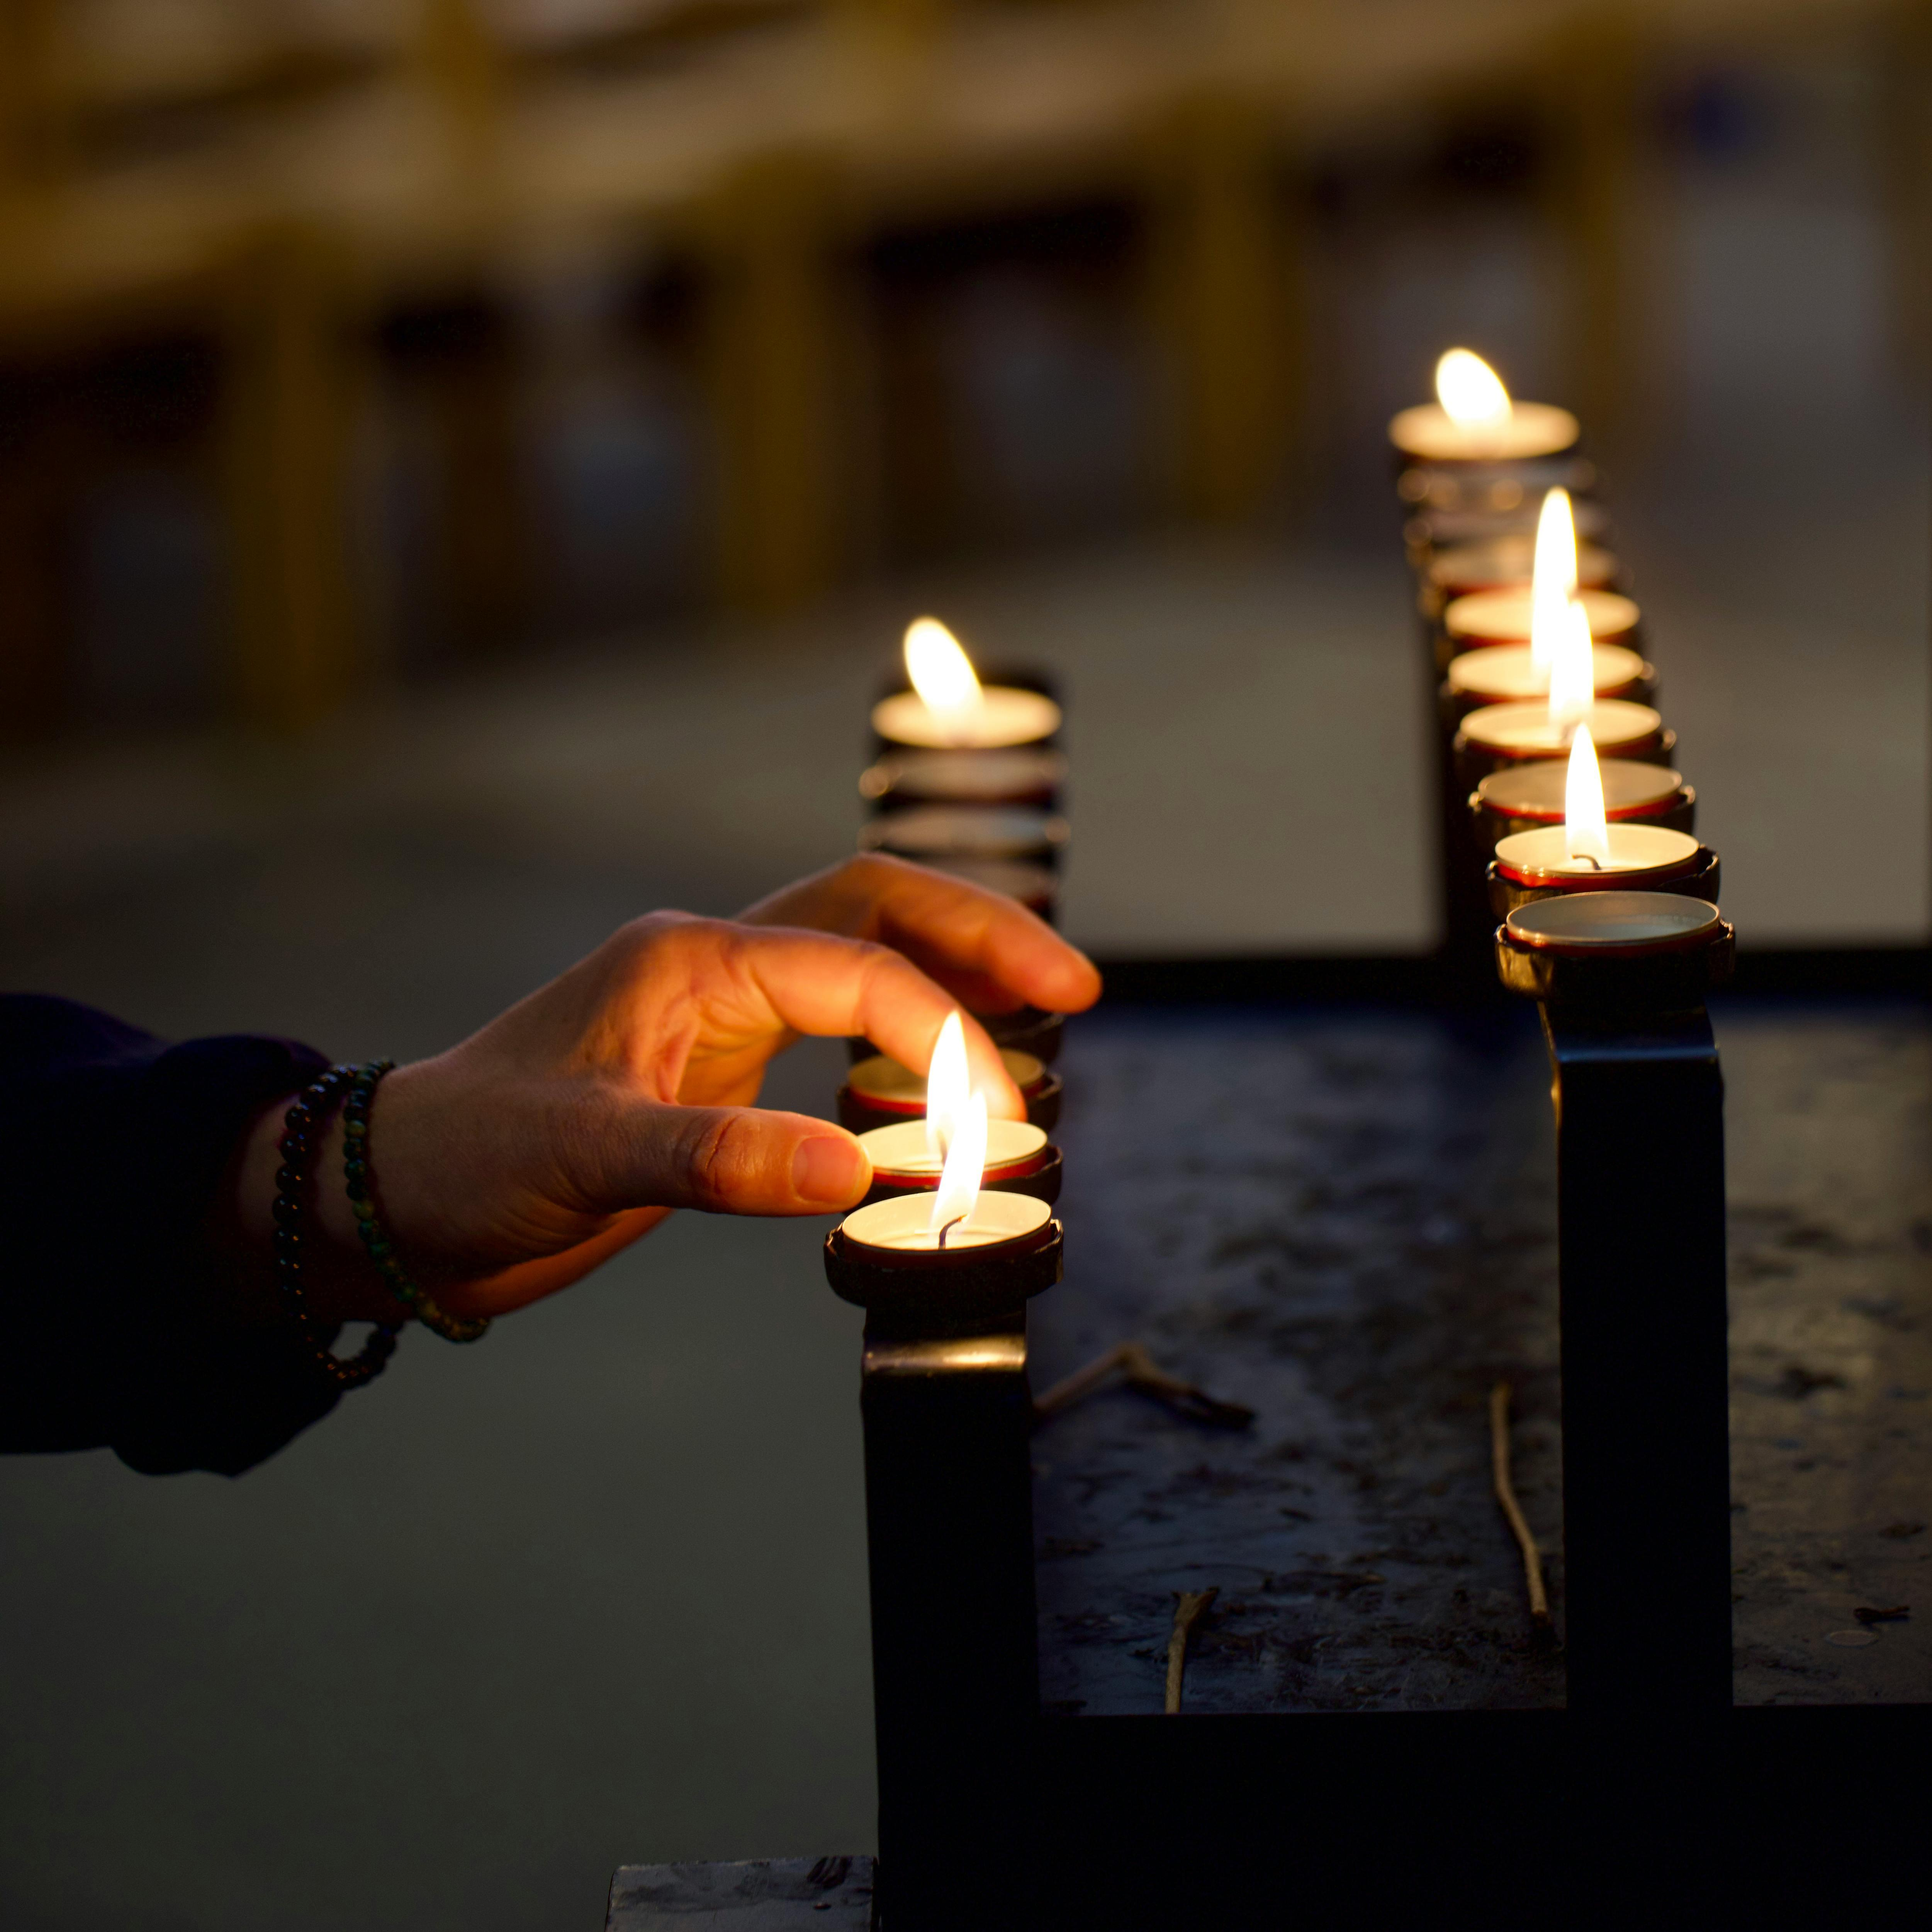Fire: (1490, 464, 1679, 893), (874, 1005, 1037, 1240), (874, 580, 1008, 727), (1419, 326, 1530, 442)
